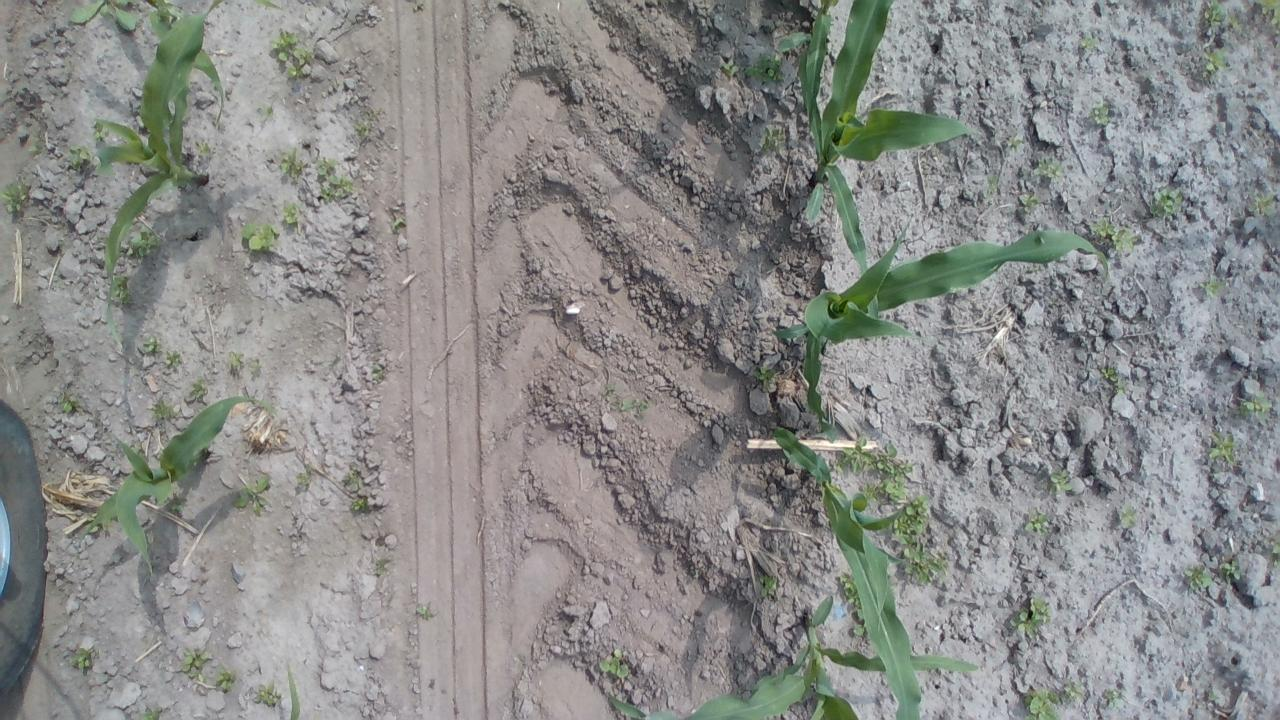Maize: (776, 222, 1114, 442), (93, 0, 288, 352), (799, 0, 984, 279), (766, 419, 920, 718), (601, 600, 982, 720), (76, 390, 274, 574), (143, 1, 227, 126), (282, 661, 302, 720)
Weeds: (887, 494, 954, 588), (831, 434, 916, 506), (270, 27, 315, 80), (68, 0, 140, 31), (1010, 594, 1052, 640), (1090, 216, 1138, 253), (318, 158, 356, 203), (230, 474, 272, 514), (1, 175, 33, 216), (240, 221, 279, 253), (1024, 686, 1060, 720), (595, 649, 632, 682), (122, 229, 162, 259), (744, 52, 784, 82), (1206, 428, 1236, 467), (1236, 390, 1272, 422), (179, 646, 210, 680), (1150, 187, 1184, 218), (1199, 48, 1231, 78), (65, 144, 97, 174), (279, 147, 307, 179), (839, 572, 863, 608), (1184, 564, 1214, 592), (757, 125, 785, 155), (109, 272, 132, 305), (1100, 365, 1126, 394), (356, 108, 382, 137), (1248, 190, 1276, 216), (1033, 156, 1063, 180), (1252, 0, 1276, 29), (1048, 469, 1074, 495), (1023, 510, 1050, 535), (1200, 0, 1225, 27), (154, 0, 182, 24), (752, 364, 778, 389), (1086, 102, 1112, 126), (256, 682, 282, 706), (614, 396, 650, 413), (68, 645, 92, 669), (1220, 557, 1243, 582), (1198, 276, 1226, 296), (189, 376, 211, 401), (281, 200, 302, 226), (342, 469, 366, 491), (1060, 680, 1084, 702), (1016, 190, 1040, 212), (293, 465, 314, 490), (1117, 503, 1138, 528), (149, 401, 179, 418), (57, 392, 82, 412), (981, 173, 1000, 199), (214, 668, 236, 690), (758, 574, 778, 598), (852, 608, 868, 638), (1002, 128, 1022, 150), (140, 335, 163, 354), (27, 133, 43, 158), (1078, 32, 1098, 52), (256, 103, 275, 122), (228, 350, 245, 371), (1104, 688, 1120, 710), (164, 350, 183, 368), (92, 121, 108, 142), (719, 60, 741, 74), (140, 706, 162, 720), (375, 558, 392, 576), (416, 604, 433, 621), (350, 496, 368, 512), (370, 364, 385, 382), (1228, 15, 1244, 31), (391, 216, 406, 232), (169, 499, 186, 513), (196, 140, 210, 156)
